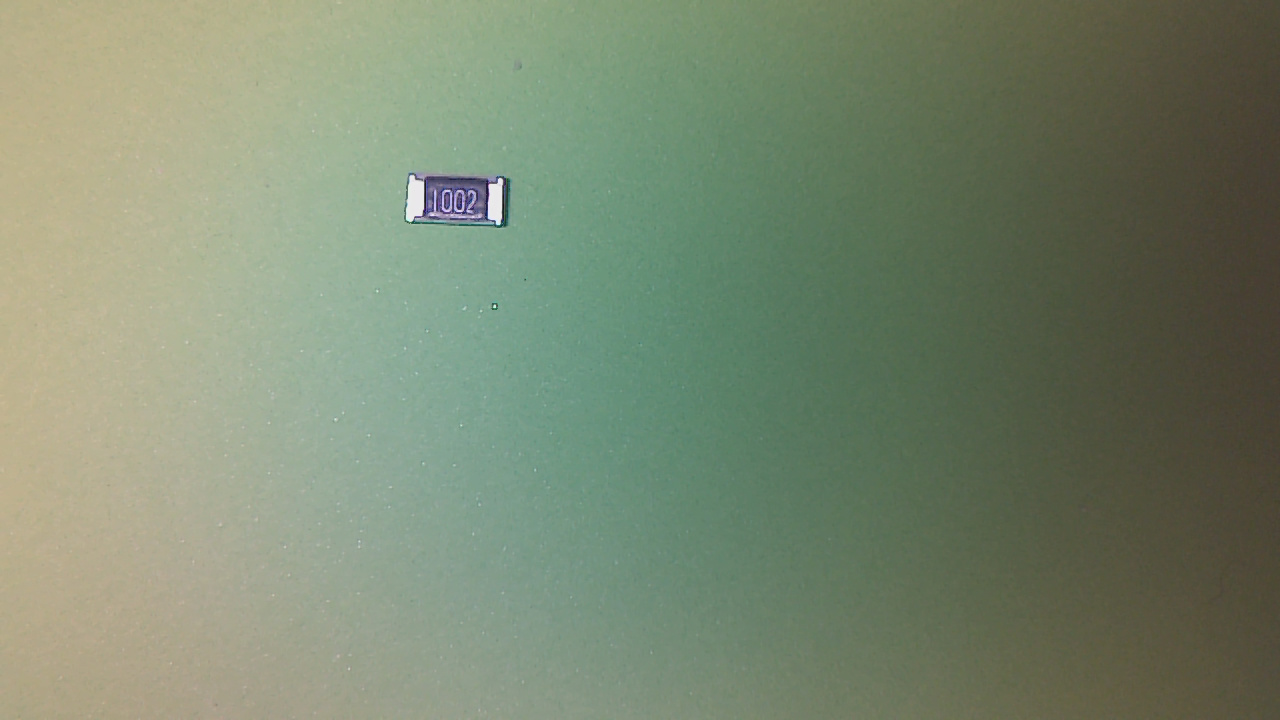Resistor: (403, 173, 525, 240)
